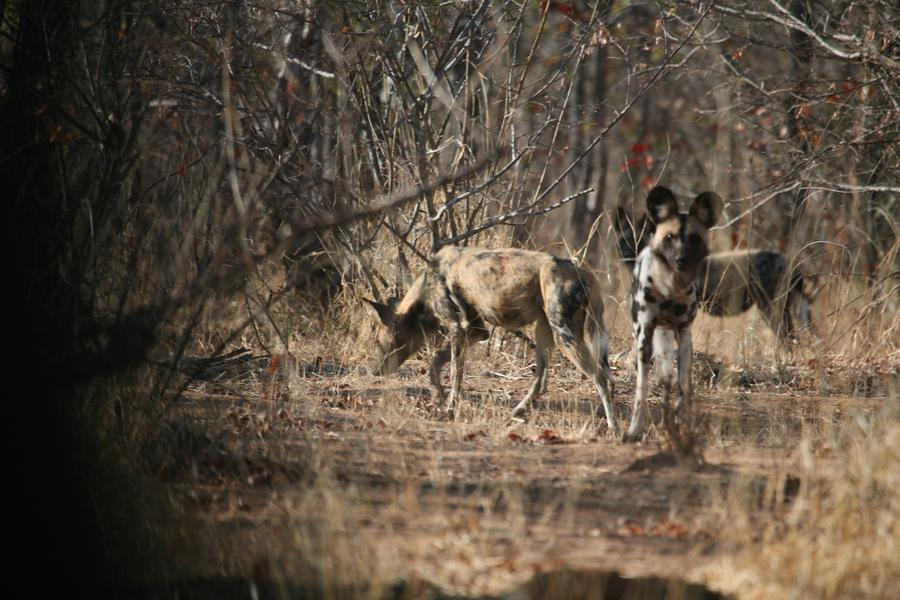wilddog: (366, 249, 578, 361), (635, 201, 711, 371), (725, 238, 799, 315)
